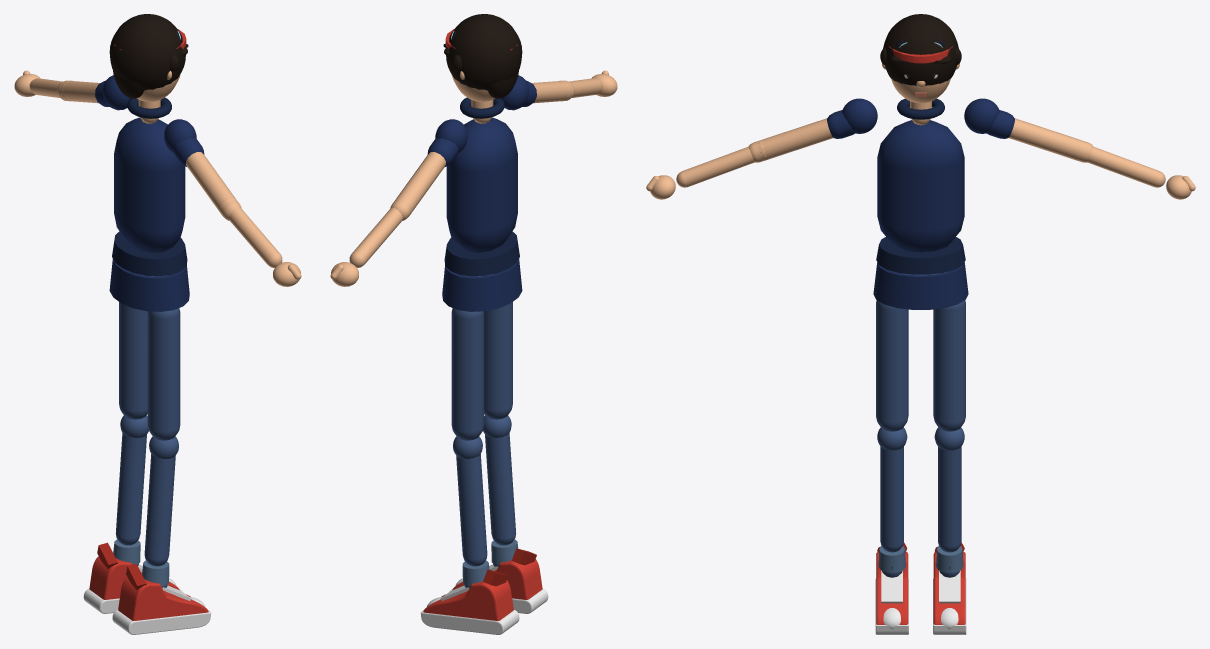
The model's file is jmp1.glb.
The picture shows the model from 3 angles, left to right: view 1: azimuth 30°, elevation 25°; view 2: azimuth 150°, elevation 25°; view 3: azimuth 270°, elevation 25°; orthographic projection.
Bounding box in the file's own units: 0.2478 × 1.71 × 1.41.
